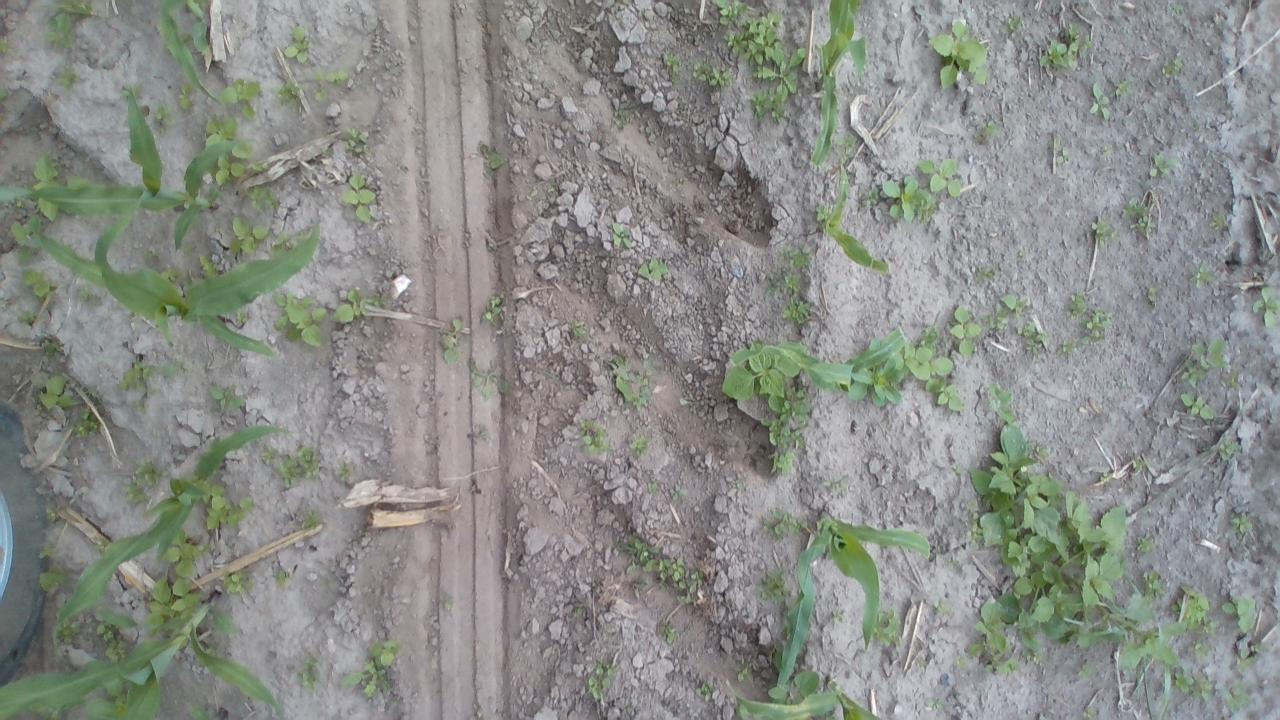Maize: (28, 190, 322, 363), (57, 426, 292, 629), (0, 87, 258, 252), (0, 592, 287, 720), (776, 507, 931, 688), (734, 333, 908, 394), (816, 0, 867, 167), (158, 0, 229, 105), (828, 159, 891, 276), (728, 676, 879, 720)
Weeds: (968, 422, 1186, 673), (721, 338, 802, 394), (934, 20, 990, 88), (344, 638, 401, 696), (726, 7, 782, 63), (606, 350, 656, 411), (766, 386, 814, 448), (274, 292, 328, 346), (147, 578, 207, 625), (1038, 21, 1093, 72), (756, 48, 806, 104), (46, 0, 100, 50), (625, 538, 688, 580), (199, 482, 251, 530), (880, 178, 934, 220), (904, 340, 956, 382), (118, 358, 184, 389), (220, 78, 266, 122), (170, 534, 210, 580), (916, 160, 964, 198), (343, 175, 378, 226), (333, 289, 382, 324), (280, 446, 324, 484), (1180, 586, 1214, 632), (34, 372, 74, 410), (951, 306, 982, 354), (989, 380, 1022, 424), (1123, 196, 1157, 238), (227, 220, 271, 252), (872, 360, 904, 404), (470, 360, 507, 397), (922, 381, 964, 413), (1222, 594, 1259, 630), (760, 508, 806, 536), (284, 24, 316, 62), (1084, 308, 1116, 346), (749, 90, 788, 121), (874, 608, 905, 646), (1218, 678, 1252, 712), (578, 418, 610, 454), (1253, 287, 1280, 329), (1194, 338, 1234, 366), (1179, 391, 1215, 421), (203, 118, 244, 144), (208, 384, 244, 413), (586, 667, 618, 699), (692, 62, 731, 88), (8, 220, 32, 262), (1160, 668, 1180, 716), (22, 272, 58, 298), (29, 152, 60, 182), (440, 317, 461, 361), (476, 144, 508, 172), (766, 270, 802, 294), (138, 455, 164, 488), (716, 0, 750, 25), (214, 156, 244, 184), (1190, 260, 1218, 290), (762, 568, 788, 600), (1002, 292, 1036, 316), (1178, 360, 1204, 391), (74, 408, 100, 438), (1089, 82, 1110, 119), (248, 187, 279, 212), (1136, 566, 1164, 592), (1150, 152, 1180, 176), (1220, 366, 1248, 391), (640, 255, 669, 279), (60, 624, 90, 646), (124, 483, 154, 505), (1189, 674, 1214, 698), (782, 302, 812, 322), (770, 450, 793, 476), (1218, 440, 1244, 463), (1067, 290, 1089, 317), (275, 80, 299, 104), (612, 222, 634, 248), (1092, 217, 1118, 239), (734, 653, 755, 680), (154, 107, 178, 130), (40, 569, 66, 590), (782, 250, 814, 266), (104, 640, 129, 660), (176, 83, 196, 108), (75, 284, 96, 307), (628, 432, 652, 452), (1234, 653, 1258, 673), (990, 302, 1006, 332), (58, 69, 80, 90), (1000, 17, 1024, 36), (196, 256, 216, 278), (645, 470, 664, 493), (223, 572, 247, 590), (974, 266, 998, 284), (344, 128, 366, 147), (662, 53, 684, 72), (232, 142, 254, 160), (313, 72, 327, 100), (1234, 512, 1254, 531), (484, 296, 501, 318), (94, 625, 120, 639), (660, 619, 674, 645), (833, 136, 859, 150), (670, 483, 689, 502), (329, 70, 354, 84), (1137, 535, 1156, 553), (812, 203, 831, 221), (164, 267, 184, 284), (1186, 642, 1208, 657), (41, 341, 60, 358), (1175, 672, 1192, 691), (1024, 338, 1042, 355), (980, 119, 998, 136), (1209, 212, 1228, 228), (15, 310, 36, 324), (337, 462, 353, 480), (926, 698, 950, 710), (1019, 321, 1037, 337), (1146, 283, 1162, 301), (861, 192, 880, 207), (0, 36, 15, 54), (302, 512, 321, 526), (951, 659, 970, 673), (933, 598, 950, 613), (1062, 338, 1080, 352), (190, 707, 209, 720), (301, 672, 316, 688), (1056, 144, 1068, 164), (276, 570, 290, 586), (144, 247, 160, 261), (37, 546, 59, 556), (1115, 80, 1129, 94), (236, 310, 252, 322), (574, 321, 586, 337), (1162, 66, 1178, 78), (946, 555, 962, 566), (950, 463, 963, 476), (137, 399, 150, 412), (264, 448, 274, 463), (306, 658, 316, 668), (700, 684, 710, 694), (1101, 146, 1110, 154)
